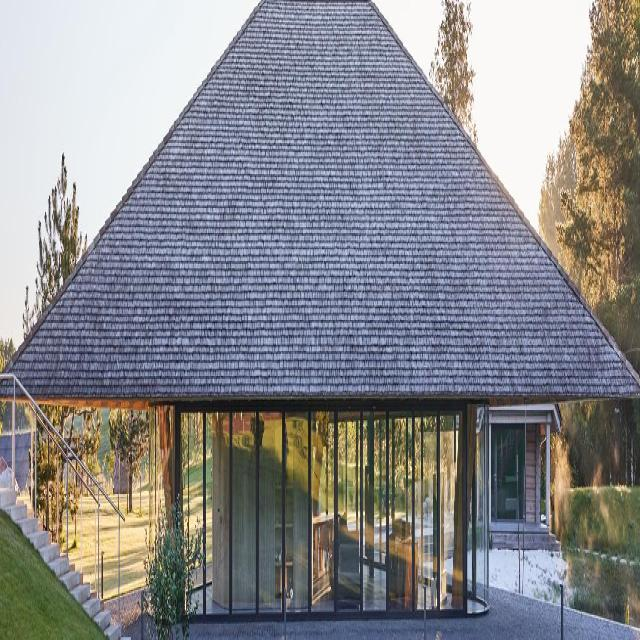door: (411, 395, 467, 620), (306, 403, 337, 629)
plant: (537, 0, 640, 379), (23, 145, 86, 337), (30, 406, 99, 559), (427, 0, 478, 146), (108, 403, 149, 512)
windows: (176, 402, 488, 622)
